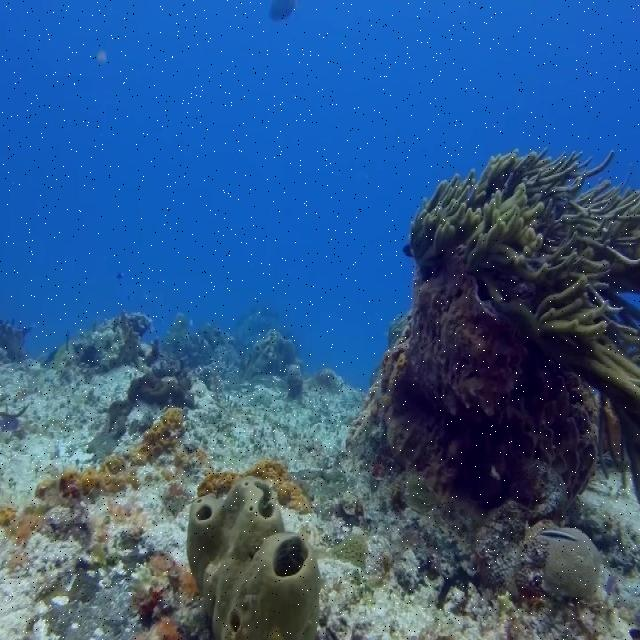reefs: (343, 148, 639, 510), (186, 476, 322, 639)
